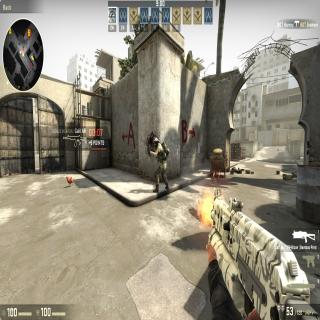CT-Body: (152, 137, 168, 192)
CT-Head: (153, 137, 159, 148)
